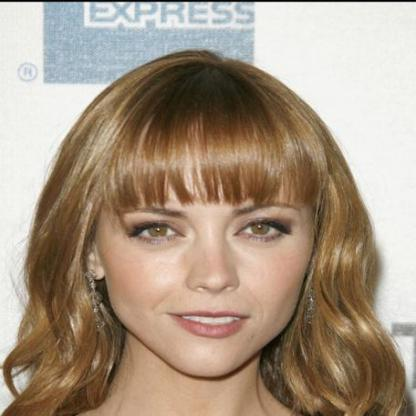long-hair: (0, 377, 413, 415)
